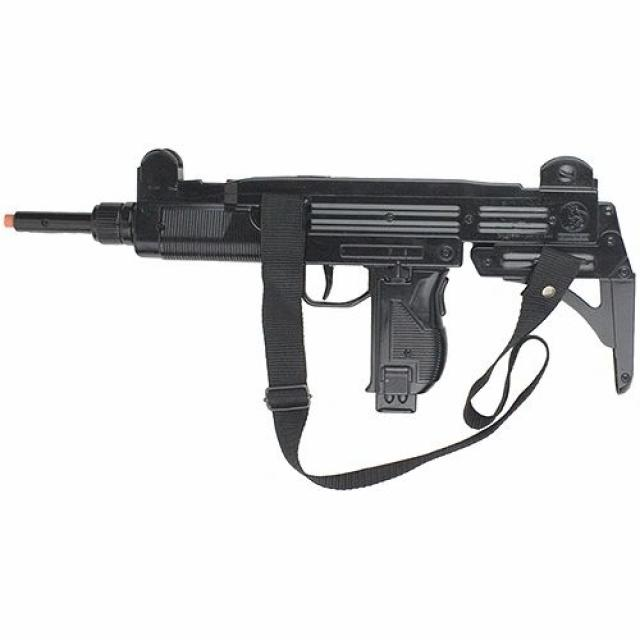SMG: (6, 150, 636, 415)
